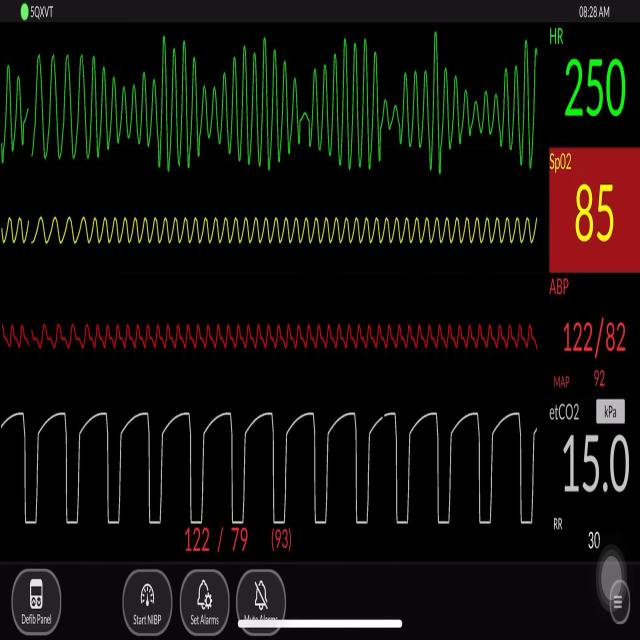danger: (8, 32, 547, 184)
